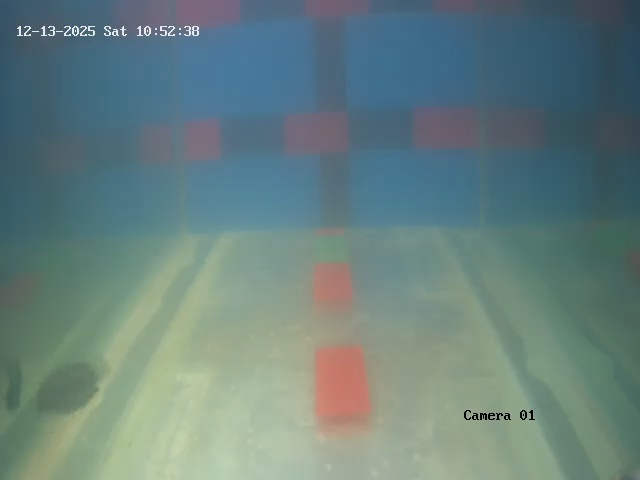fish: (36, 344, 110, 427)
